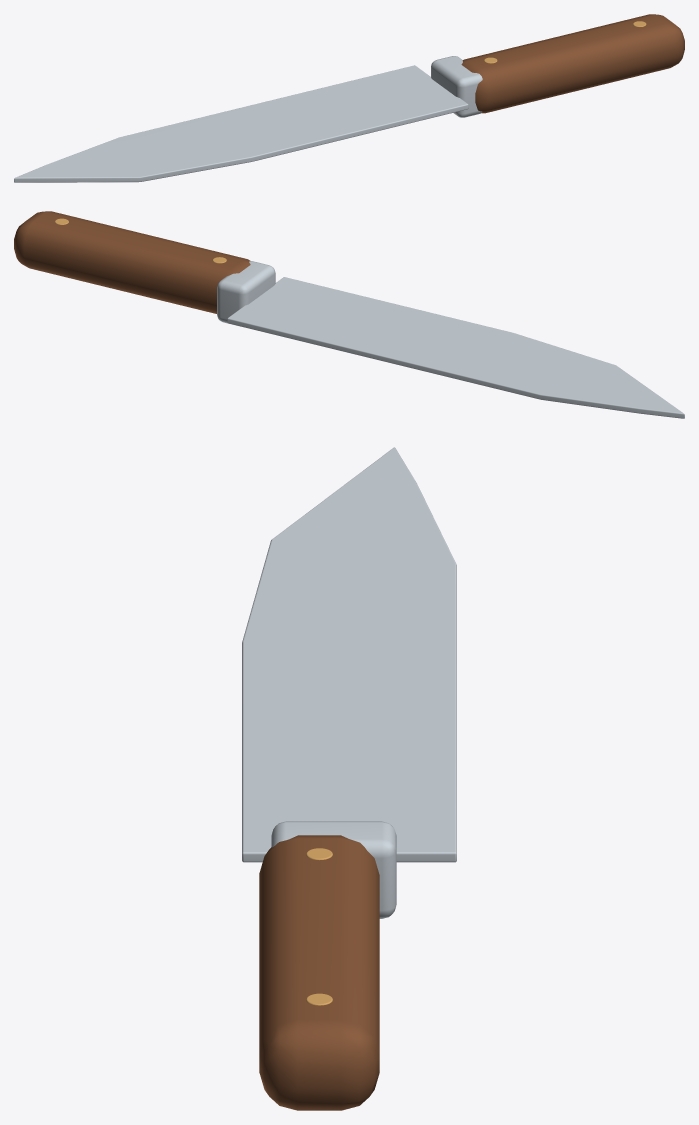
The model's file is ChefKnife.glb.
3 renders of one model, top to bottom at view 1: azimuth 30°, elevation 25°; view 2: azimuth 150°, elevation 25°; view 3: azimuth 270°, elevation 25°, orthographic. The views are drawn at different scales.
Parts seen in each view (by area): view 1: Ground blade, Contoured grip, Bolster; view 2: Ground blade, Contoured grip, Bolster; view 3: Ground blade, Contoured grip, Bolster.
Boxes of the visible parts, x1,y1,x2,y2 form: Ground blade: (14, 65, 468, 182); Contoured grip: (461, 14, 684, 113); Bolster: (431, 56, 482, 117); Ground blade: (227, 277, 684, 418); Contoured grip: (14, 211, 250, 313); Bolster: (217, 261, 275, 323); Ground blade: (242, 447, 456, 862); Contoured grip: (259, 835, 379, 1110); Bolster: (271, 821, 396, 918).
Bounding box in the file's own units: 0.3087 × 0.0205 × 0.0446.
